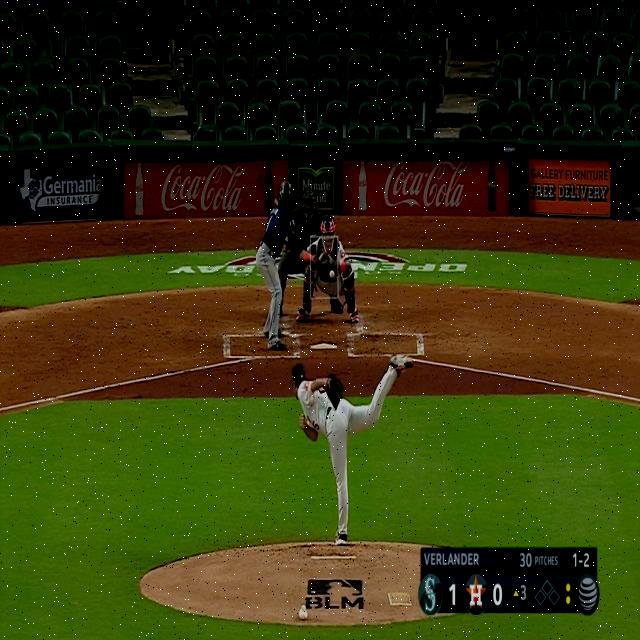baseball: (329, 270, 335, 279)
